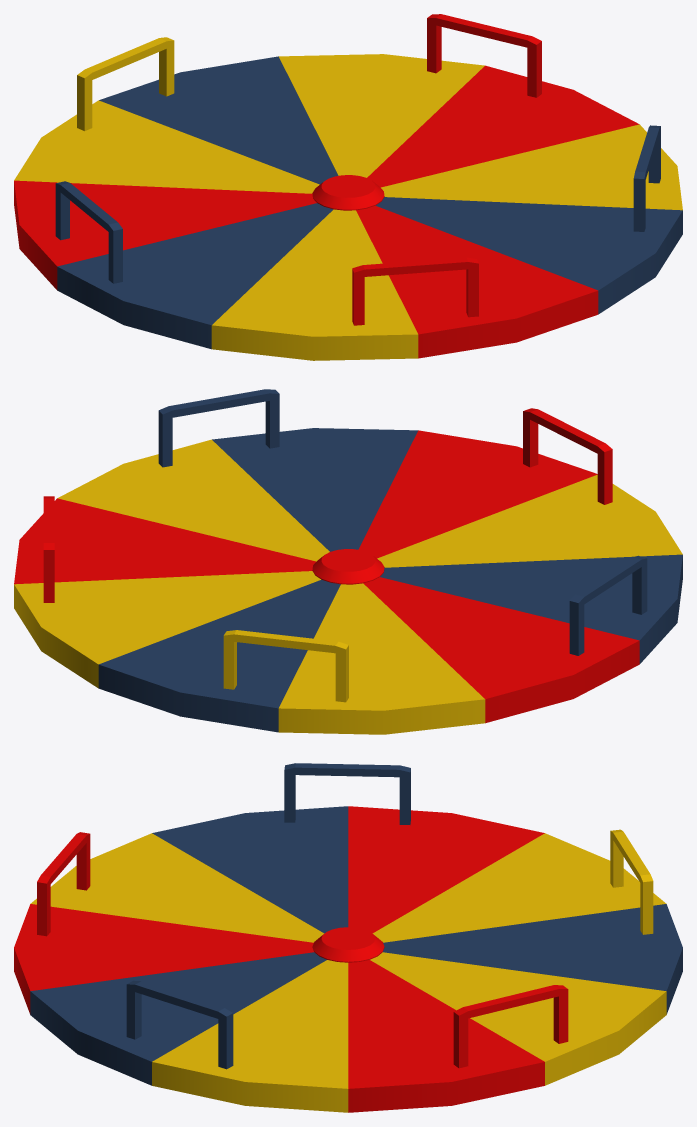
File: Spinner_2.fbx
3 views of the same model, one above another, from view 1: azimuth 30°, elevation 25°; view 2: azimuth 150°, elevation 25°; view 3: azimuth 270°, elevation 25° (orthographic).
Visible parts, largest first — view 1: Spinner_2; view 2: Spinner_2; view 3: Spinner_2.
Boxes of the visible parts, x1=… form: Spinner_2: x1=14, y1=14, x2=682, y2=360; Spinner_2: x1=14, y1=389, x2=682, y2=734; Spinner_2: x1=14, y1=763, x2=682, y2=1112.
Size of the model in its own units: 9.57 by 1.84 by 9.57.
